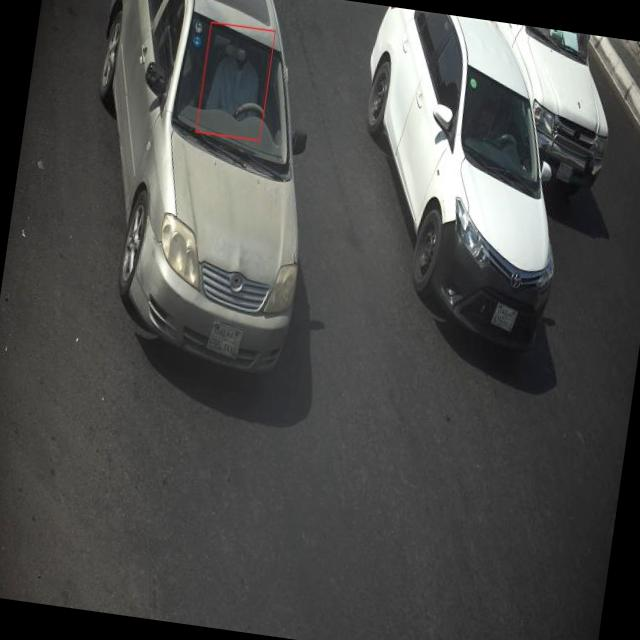person_without_seatbelt: (202, 29, 278, 131)
